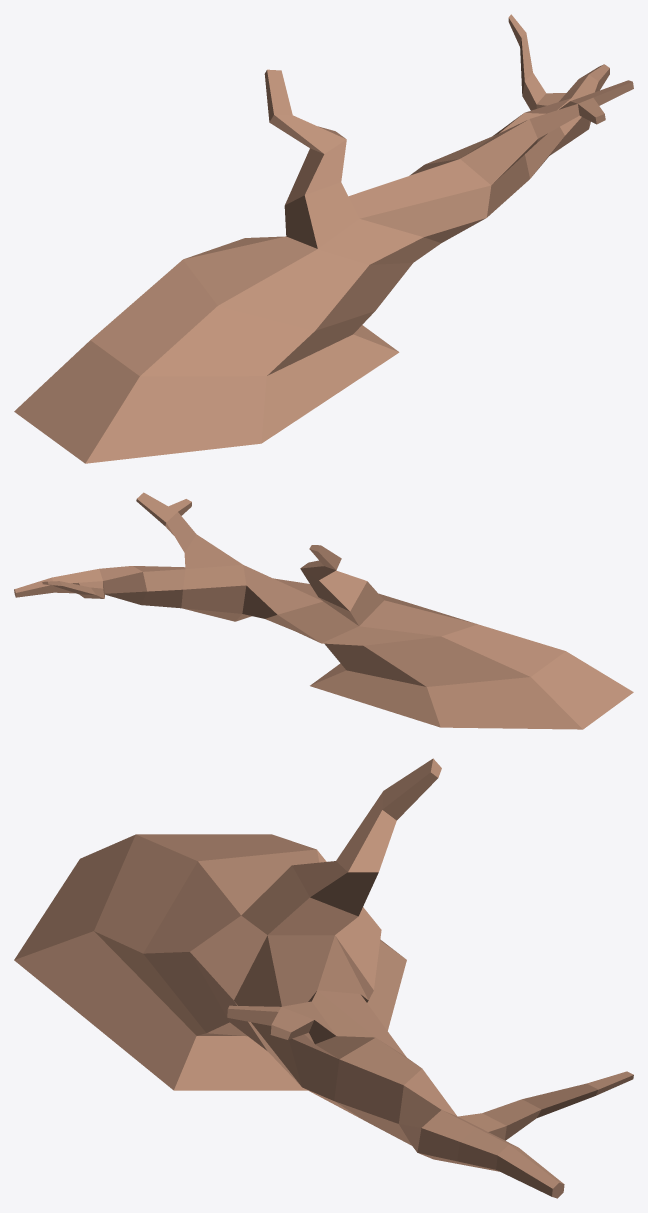
File: tree_1.fbx
3 renders of one model, top to bottom at view 1: azimuth 30°, elevation 25°; view 2: azimuth 150°, elevation 25°; view 3: azimuth 270°, elevation 25°, orthographic. The views are drawn at different scales.
Parts seen in each view (by area): view 1: Cylinder; view 2: Cylinder; view 3: Cylinder.
Part boxes in pixels (box(x1,y1,x2,y2)): Cylinder: box(14, 14, 633, 463); Cylinder: box(14, 492, 633, 729); Cylinder: box(14, 758, 633, 1198).
Size of the model in its own units: 9.19 by 2.83 by 5.15.
